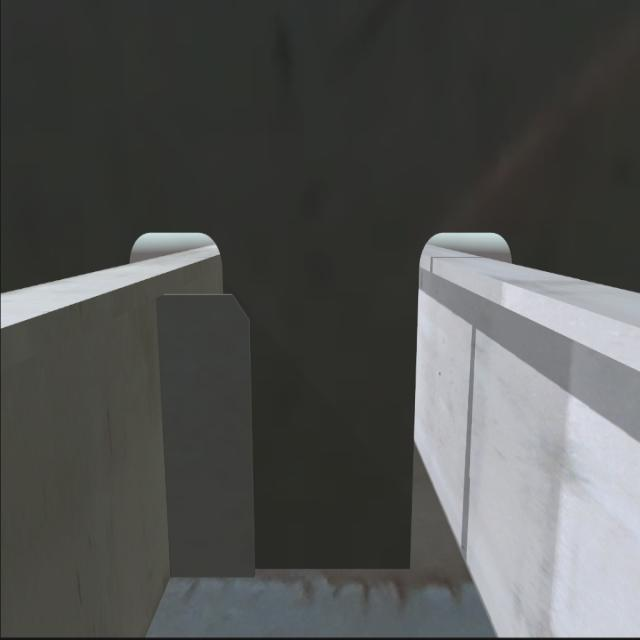fillet_yong_jeop_jang: (173, 556, 413, 582)
longi_yong_jeop_jang: (153, 291, 179, 581)
plate_CP03: (157, 295, 255, 577)
